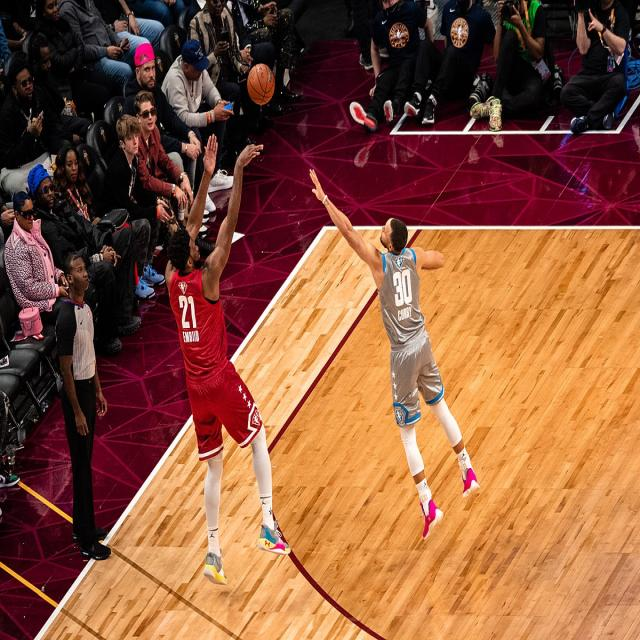basketball: (247, 62, 276, 105)
